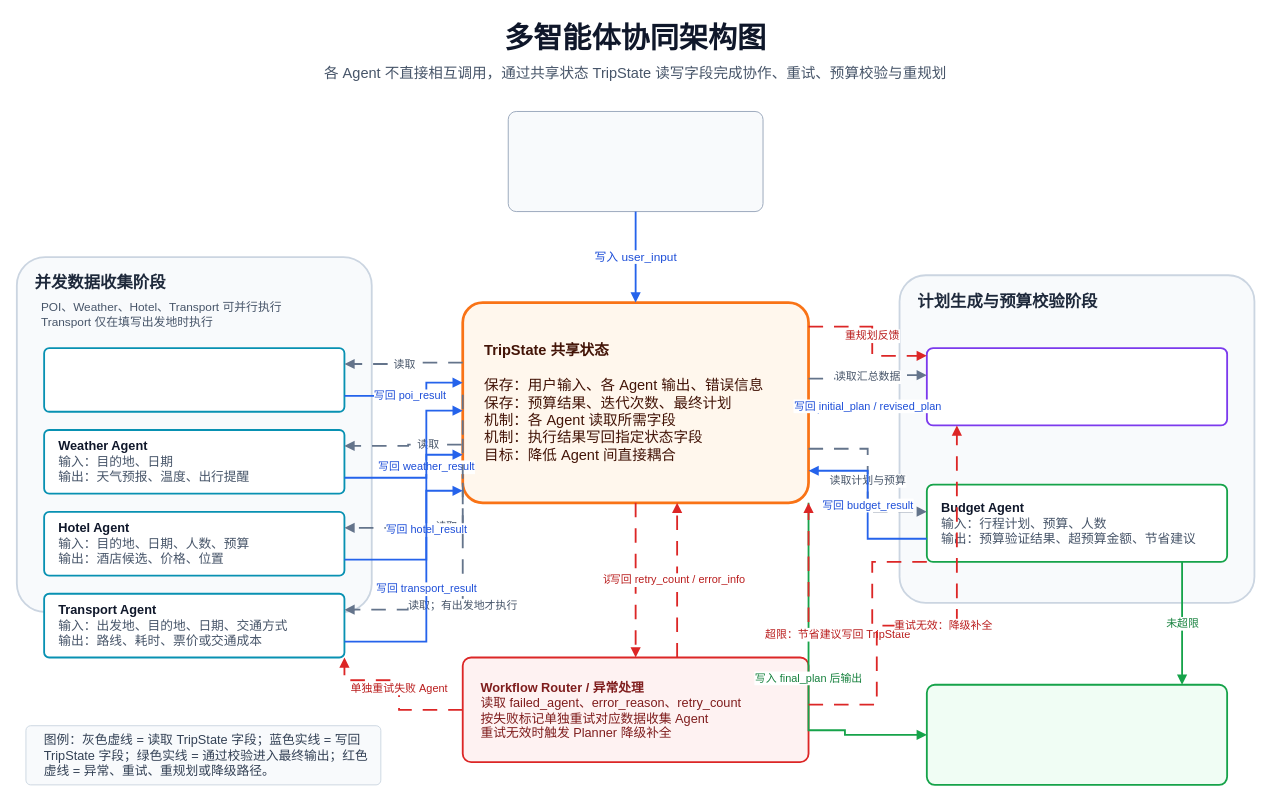
Some shapes in this 1270 by 801 pixel diagram are drawn without their labels. Here are the shapes that lost their labels. From the top down, the centre of each, then its label:
At point 635,161: "用户输入 目的地、日期、人数 预算、偏好、出发地 交通方式约束".
At point 194,379: "POI Agent 输入：目的地、日期、偏好 输出：景点列表、开放信息、推荐游玩时长".
At point 1076,386: "Planner Agent 输入：多 Agent 输出、偏好、日期、人数、预算、交通信息 输出：初步计划 / 重规划结果".
At point 1076,734: "最终输出 可用旅游计划 预算明细与节省建议 地图、酒店、交通参考".
